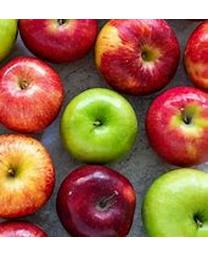apple: (94, 19, 179, 94), (60, 87, 138, 163), (55, 165, 135, 236), (0, 56, 64, 134), (145, 86, 207, 166), (0, 133, 55, 218), (141, 167, 207, 236), (18, 19, 99, 62), (182, 22, 207, 90)
